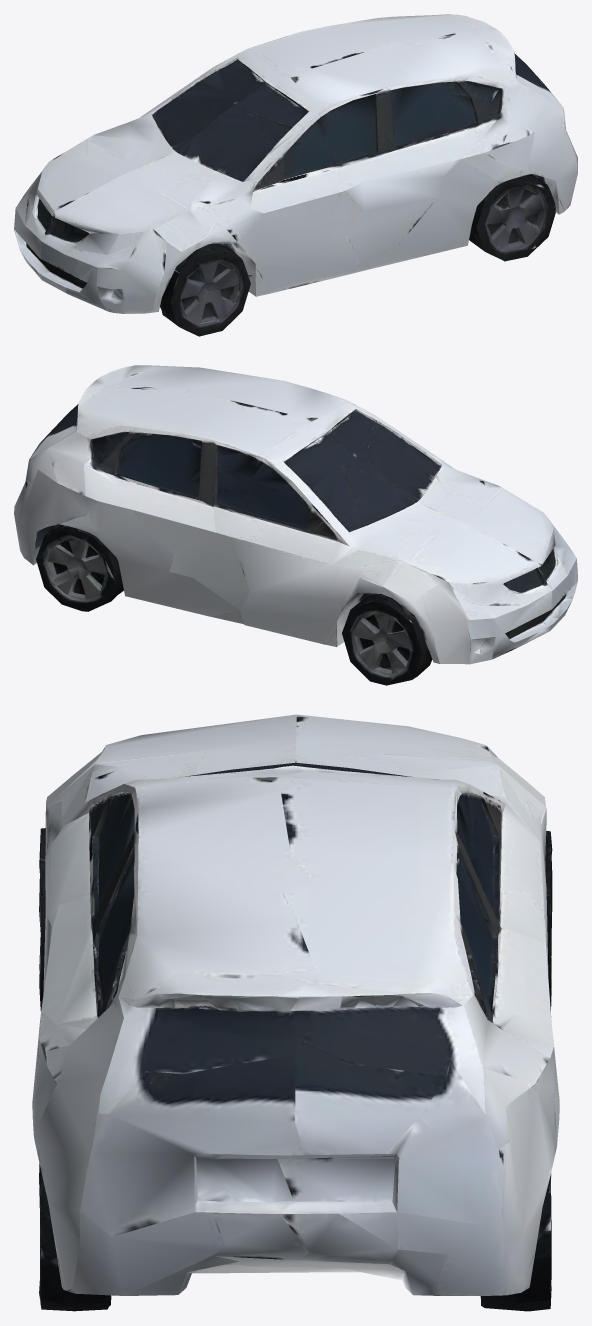
File: gris.glb
3 views of the same model, one above another, from view 1: azimuth 30°, elevation 25°; view 2: azimuth 150°, elevation 25°; view 3: azimuth 270°, elevation 25° (orthographic). The views are drawn at different scales.
Bounding box in the file's own units: 1.9 × 0.6689 × 0.8651.
Materials: 1 (1 with a texture image).
